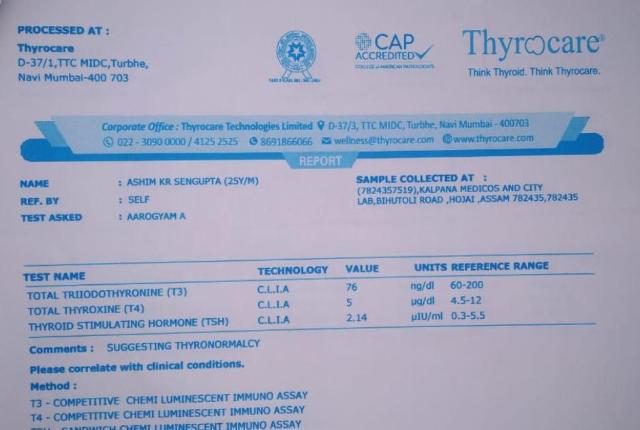Clinical_Conditions: (29, 394, 309, 429)
Name: (126, 174, 260, 188)
Ref_By: (126, 194, 153, 206)
Reference_Range: (450, 277, 489, 324)
Technology: (254, 282, 300, 329)
Test_Asked: (126, 211, 193, 224)
Test_Name: (23, 285, 245, 333)
Unit: (407, 278, 448, 325)
Value: (342, 280, 373, 325)
